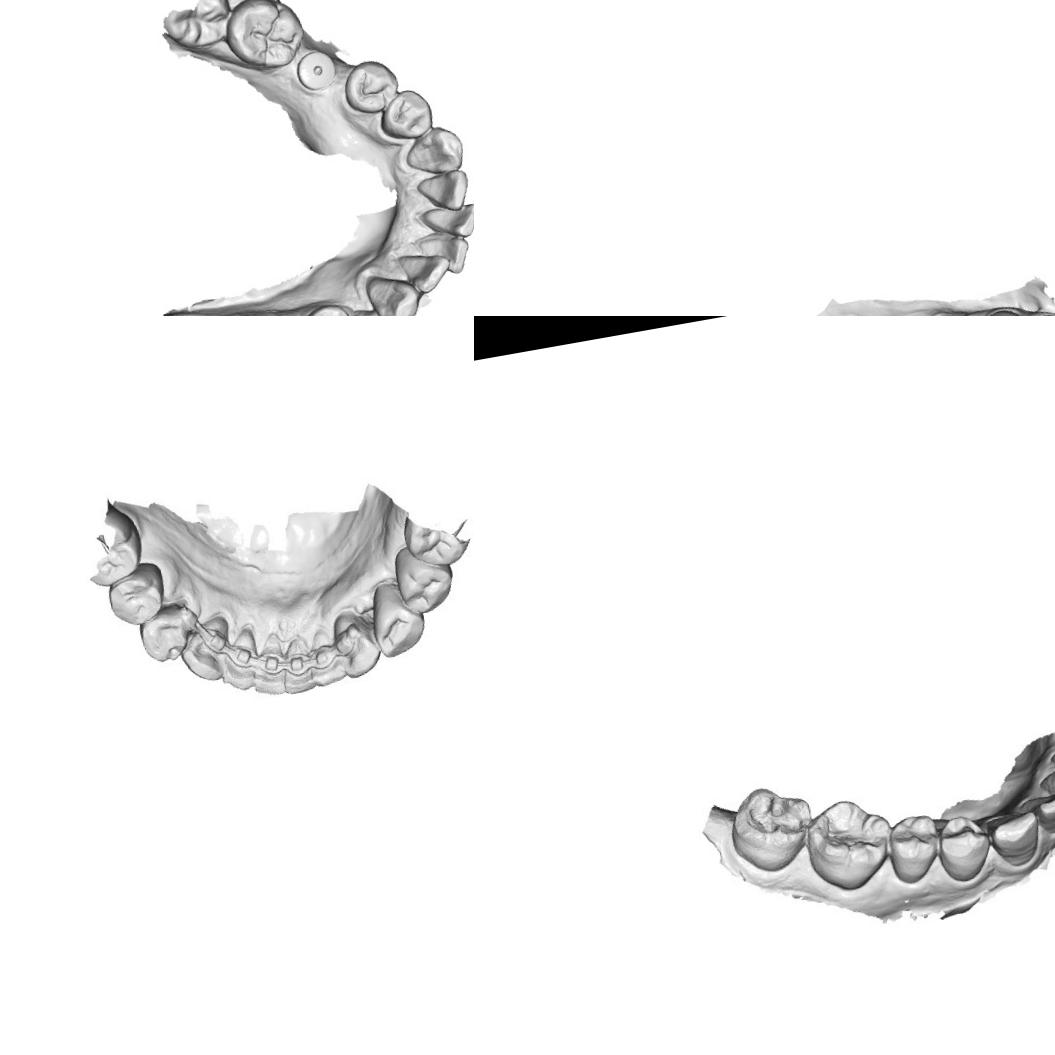canine: (981, 805, 1051, 875), (330, 610, 386, 683), (401, 120, 468, 180), (174, 618, 232, 686), (360, 266, 426, 316)
implant: (290, 45, 340, 96)
incisor: (393, 246, 455, 300), (413, 165, 474, 217), (216, 626, 264, 690), (419, 224, 474, 279), (416, 196, 474, 246), (304, 622, 350, 684), (247, 635, 291, 693), (277, 637, 315, 690), (1029, 788, 1055, 837), (1039, 758, 1055, 807)
inlay: (740, 784, 808, 848)
molar: (800, 792, 894, 883), (217, 0, 311, 77)
premolar: (384, 538, 461, 621), (879, 805, 948, 887), (99, 554, 173, 630), (934, 810, 993, 889), (134, 600, 198, 668), (339, 54, 404, 118), (370, 585, 427, 657), (374, 86, 437, 144), (298, 295, 361, 316)
